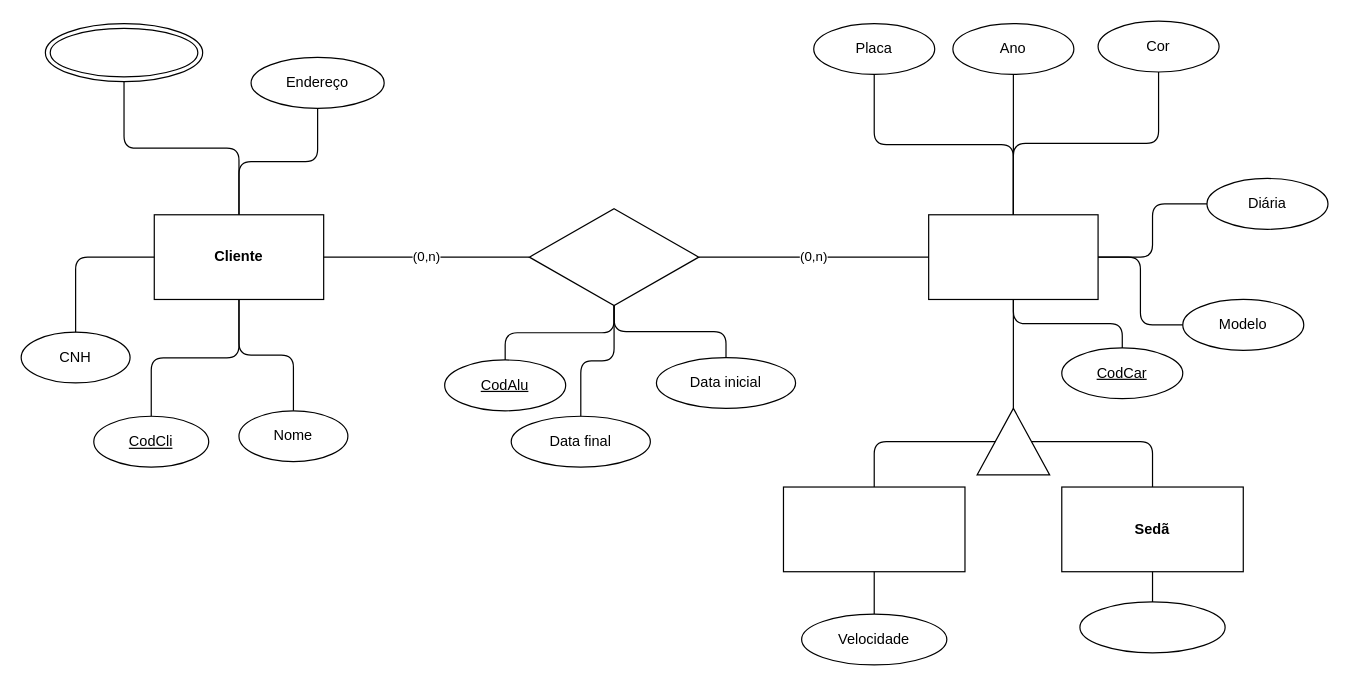
This 1349x686 diagram has some shape labels left out. The centre of each missing label's shape, as x and y in pixels:
"Aluga" belongs at point 613,257.
"Carro" belongs at point 1012,256.
"Esportivo" belongs at point 873,529.
"ISA" belongs at point 1013,441.
"Passageiros" belongs at point 1152,627.
"Telefone (1,n)" belongs at point 123,52.
